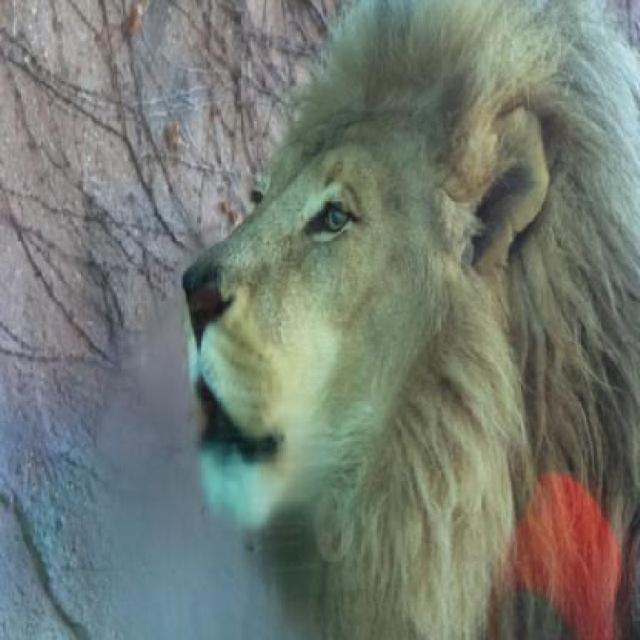Lion: (174, 7, 638, 638)
